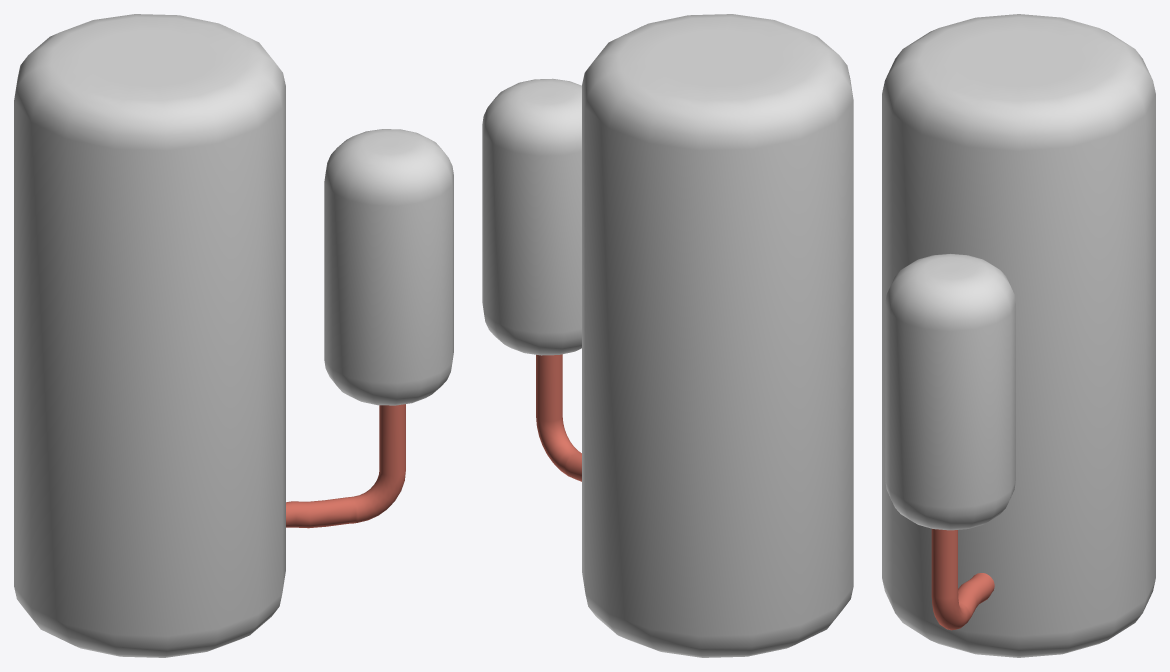
The model's file is Cup gas and pip.fbx.
The picture shows the model from 3 angles, left to right: view 1: azimuth 30°, elevation 25°; view 2: azimuth 150°, elevation 25°; view 3: azimuth 270°, elevation 25°; orthographic projection.
Parts seen in each view (by area): view 1: Cup Gas Out, Cup Gas In, Pip gas in; view 2: Cup Gas Out, Cup Gas In, Pip gas in; view 3: Cup Gas Out, Cup Gas In, Pip gas in.
Part boxes in pixels (x1,y1,x2,y2): Cup Gas Out: (14, 14, 285, 657); Cup Gas In: (324, 129, 453, 405); Pip gas in: (286, 404, 405, 528); Cup Gas Out: (582, 14, 853, 657); Cup Gas In: (482, 78, 581, 355); Pip gas in: (536, 354, 581, 481); Cup Gas Out: (882, 14, 1155, 657); Cup Gas In: (885, 253, 1015, 530); Pip gas in: (931, 529, 994, 630).
Size of the model in its own units: 17.58 by 24.47 by 10.98.
